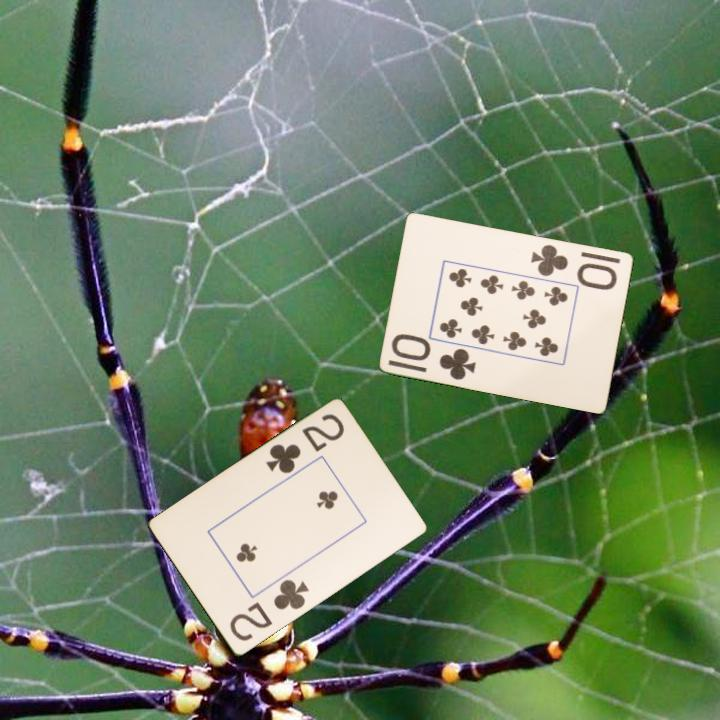10c: (388, 332, 479, 383), (528, 241, 620, 291)
2c: (226, 576, 312, 645), (262, 410, 347, 477)
